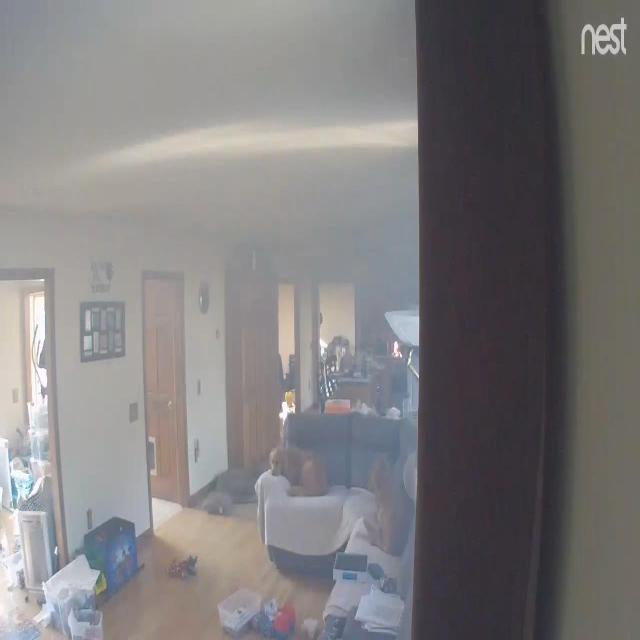fire: (392, 340, 403, 358)
